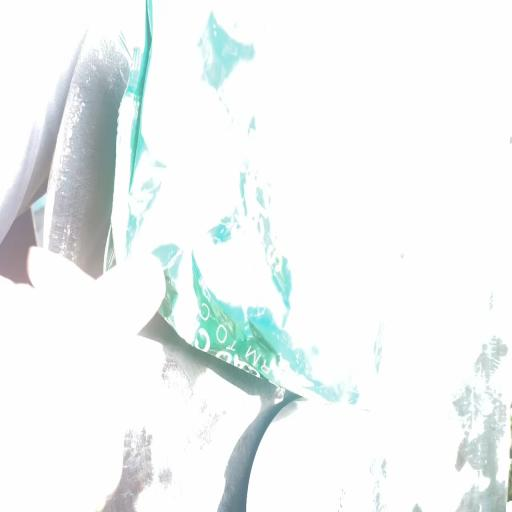cafe_xay: (106, 0, 395, 403)
